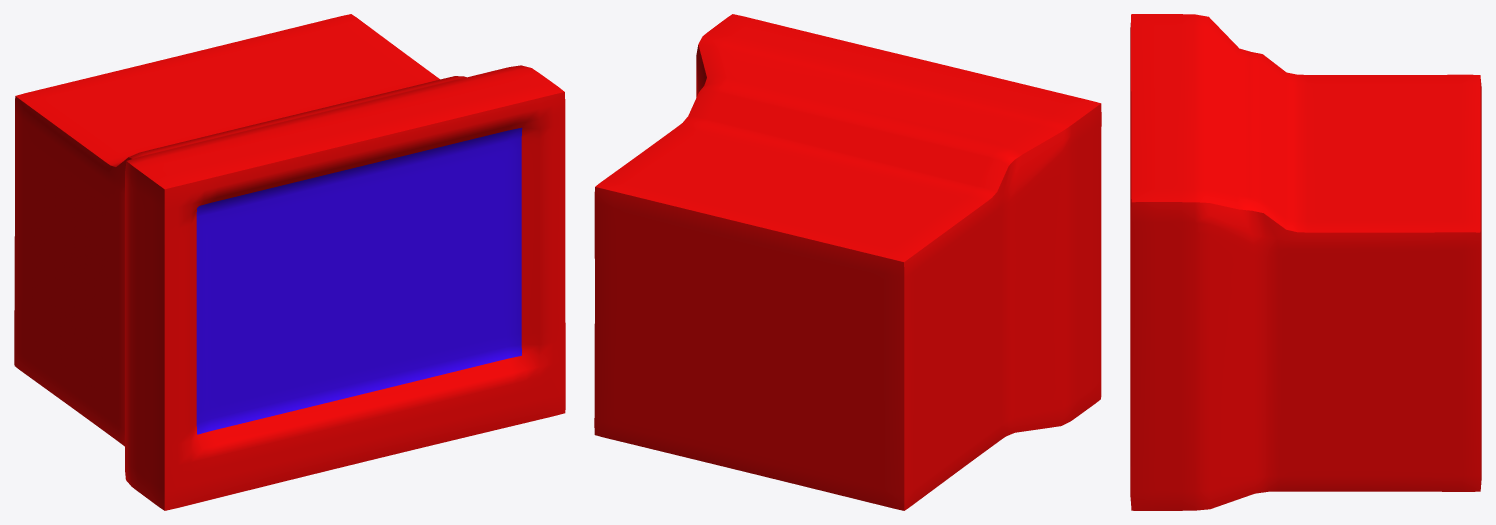
3 views of the same model, side by side, from view 1: azimuth 30°, elevation 25°; view 2: azimuth 150°, elevation 25°; view 3: azimuth 270°, elevation 25° (orthographic). The views are drawn at different scales.
Parts seen in each view (by area): view 1: pCube1; view 2: pCube1; view 3: pCube1.
Boxes of the visible parts, left/top/right/bottom form: pCube1: left=14, top=14, right=565, bottom=510; pCube1: left=594, top=14, right=1101, bottom=510; pCube1: left=1130, top=14, right=1481, bottom=510.
Bounding box in the file's own units: 6.52 × 5 × 5.13.
